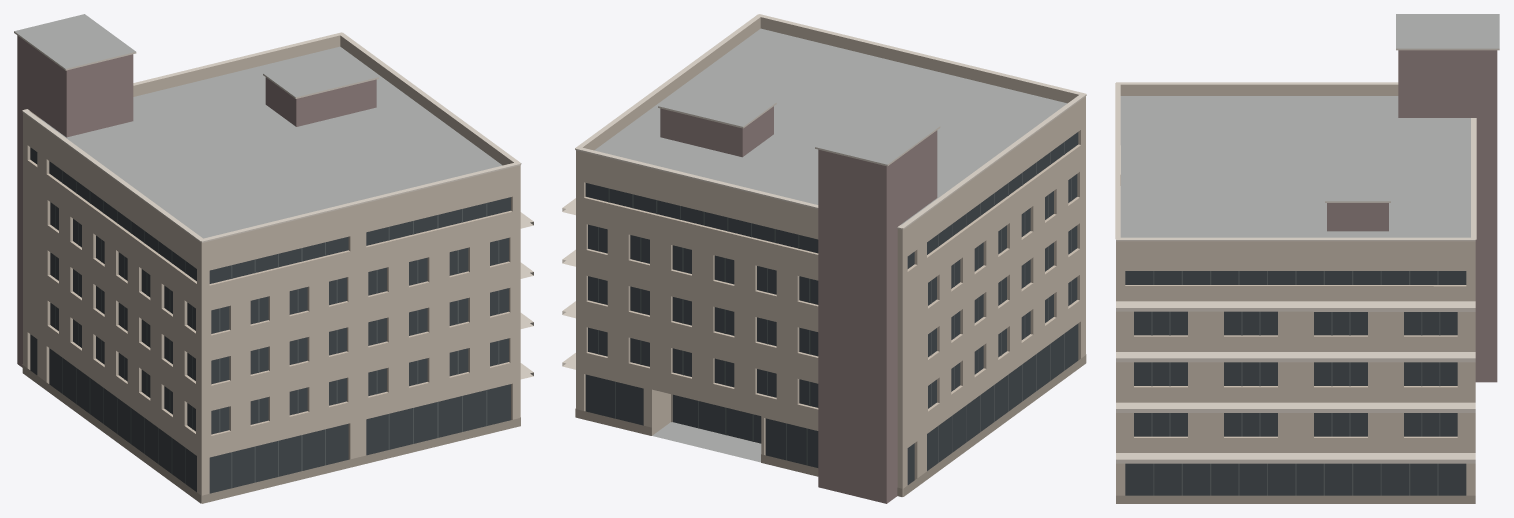
3 renders of one model, left to right at view 1: azimuth 30°, elevation 25°; view 2: azimuth 150°, elevation 25°; view 3: azimuth 270°, elevation 25°, orthographic. The views are drawn at different scales.
Parts seen in each view (by area): view 1: medLecture__wall, medLecture__roof, medLecture__glass, medLecture__wall2, medLecture__parapet, medLecture__trim, medLecture__base, medLecture__frame; view 2: medLecture__wall, medLecture__roof, medLecture__wall2, medLecture__glass, medLecture__parapet, medLecture__trim, medLecture__base, medLecture__frame; view 3: medLecture__roof, medLecture__wall, medLecture__glass, medLecture__trim, medLecture__wall2, medLecture__parapet, medLecture__base, medLecture__frame.
Part boxes in pixels (x1,y1,x2,y2): medLecture__wall: (23, 122, 520, 503); medLecture__roof: (14, 14, 502, 238); medLecture__glass: (30, 147, 510, 493); medLecture__wall2: (17, 35, 376, 367); medLecture__parapet: (23, 35, 520, 252); medLecture__trim: (14, 31, 533, 379); medLecture__base: (22, 364, 520, 503); medLecture__frame: (55, 171, 499, 488); medLecture__wall: (576, 106, 1085, 496); medLecture__roof: (594, 28, 1067, 462); medLecture__wall2: (660, 106, 937, 503); medLecture__glass: (585, 132, 1078, 484); medLecture__parapet: (576, 17, 1085, 239); medLecture__trim: (562, 14, 1086, 369); medLecture__base: (575, 354, 1086, 496); medLecture__frame: (598, 141, 1071, 465); medLecture__roof: (1120, 14, 1499, 237); medLecture__wall: (1116, 250, 1475, 495); medLecture__glass: (1125, 271, 1466, 495); medLecture__trim: (1115, 48, 1499, 463); medLecture__wall2: (1327, 50, 1497, 382); medLecture__parapet: (1116, 84, 1475, 250); medLecture__base: (1116, 495, 1475, 503); medLecture__frame: (1151, 271, 1440, 495).
Size of the model in its own units: 24.96 by 23.8 by 24.8.
